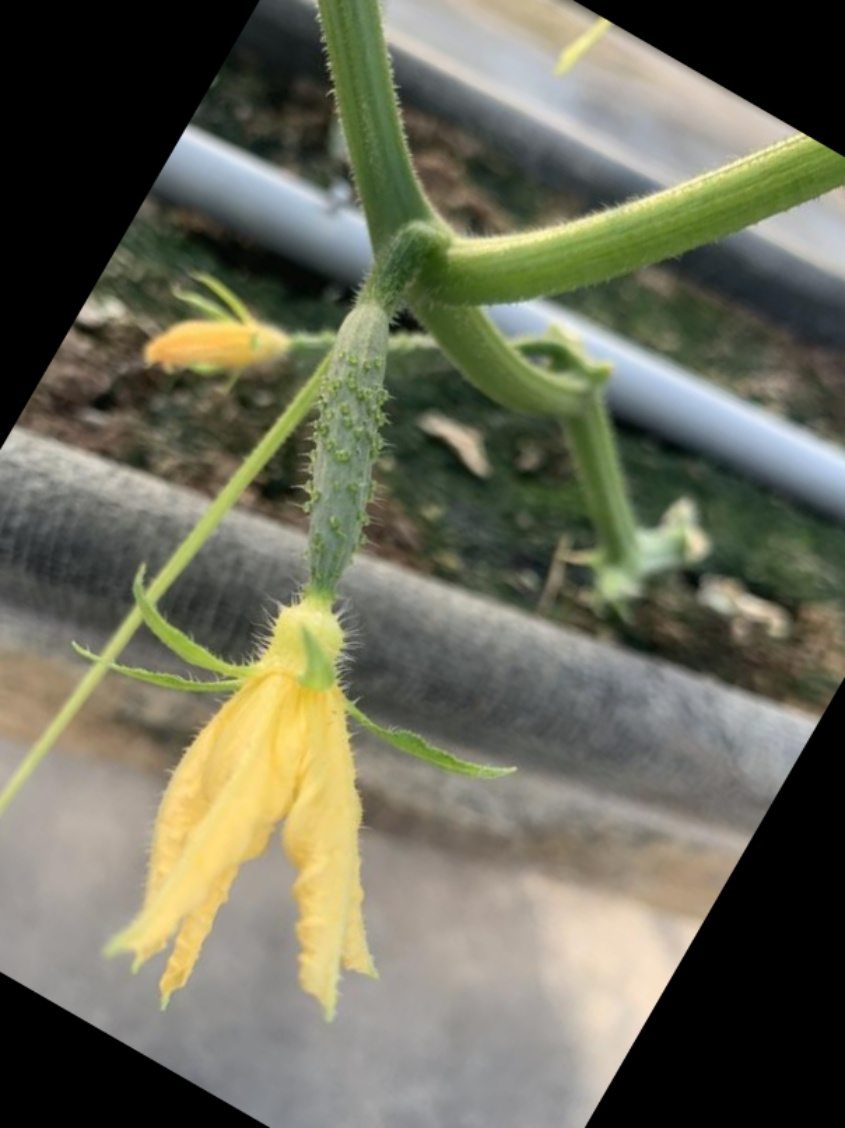bear: (136, 305, 454, 982)
